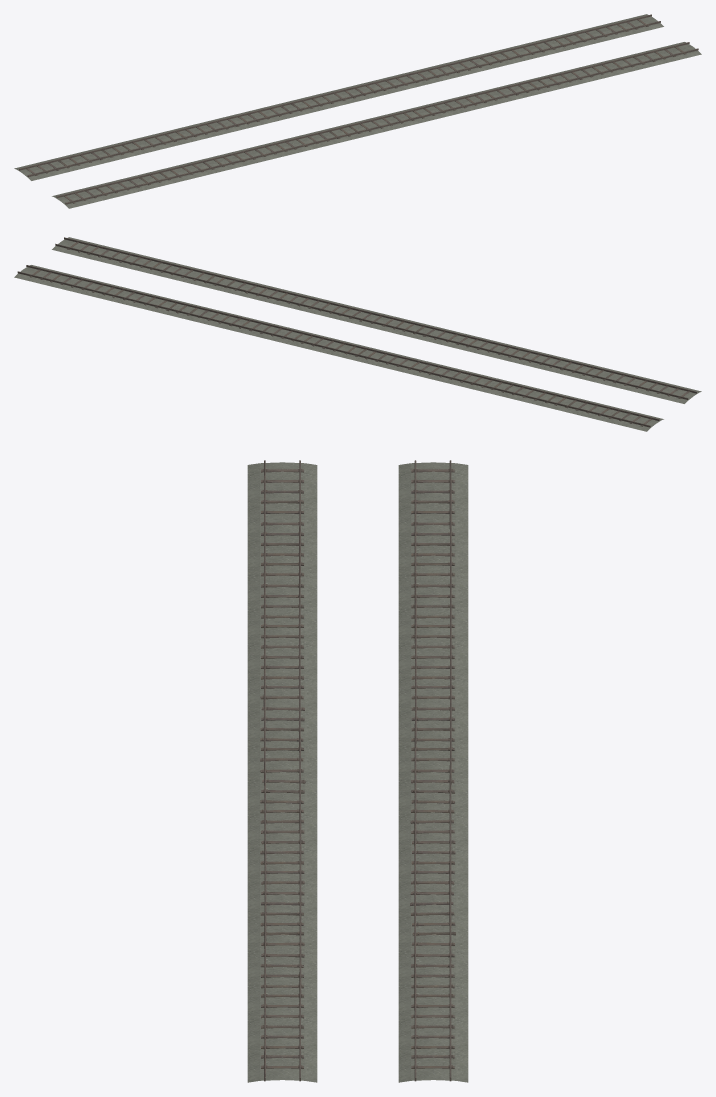
Rendered from SM_Republic_02_01.002.fbx.
The picture shows the model from 3 angles, top to bottom: view 1: azimuth 30°, elevation 25°; view 2: azimuth 150°, elevation 25°; view 3: azimuth 270°, elevation 25°; orthographic projection. The views are drawn at different scales.
Parts seen in each view (by area): view 1: SM_Republic_02_00.004, SM_Republic_02_01.002; view 2: SM_Republic_02_00.004, SM_Republic_02_01.002; view 3: SM_Republic_02_00.004, SM_Republic_02_01.002.
Part boxes in pixels (x1=…): SM_Republic_02_00.004: x1=14, y1=14, x2=701, y2=208; SM_Republic_02_01.002: x1=19, y1=14, x2=698, y2=204; SM_Republic_02_00.004: x1=14, y1=237, x2=701, y2=431; SM_Republic_02_01.002: x1=17, y1=237, x2=696, y2=427; SM_Republic_02_00.004: x1=247, y1=462, x2=468, y2=1082; SM_Republic_02_01.002: x1=260, y1=460, x2=455, y2=1081.
Size of the model in its own units: 14837 by 60.64 by 2236.
